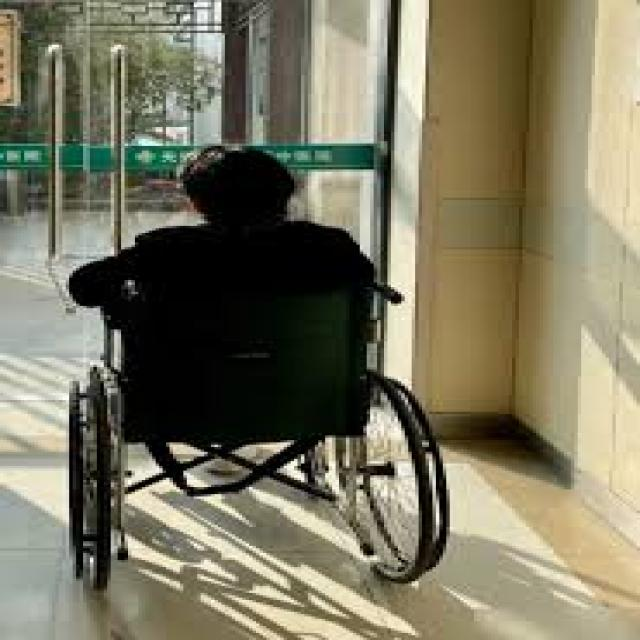wheelchairs: (59, 271, 477, 600)
